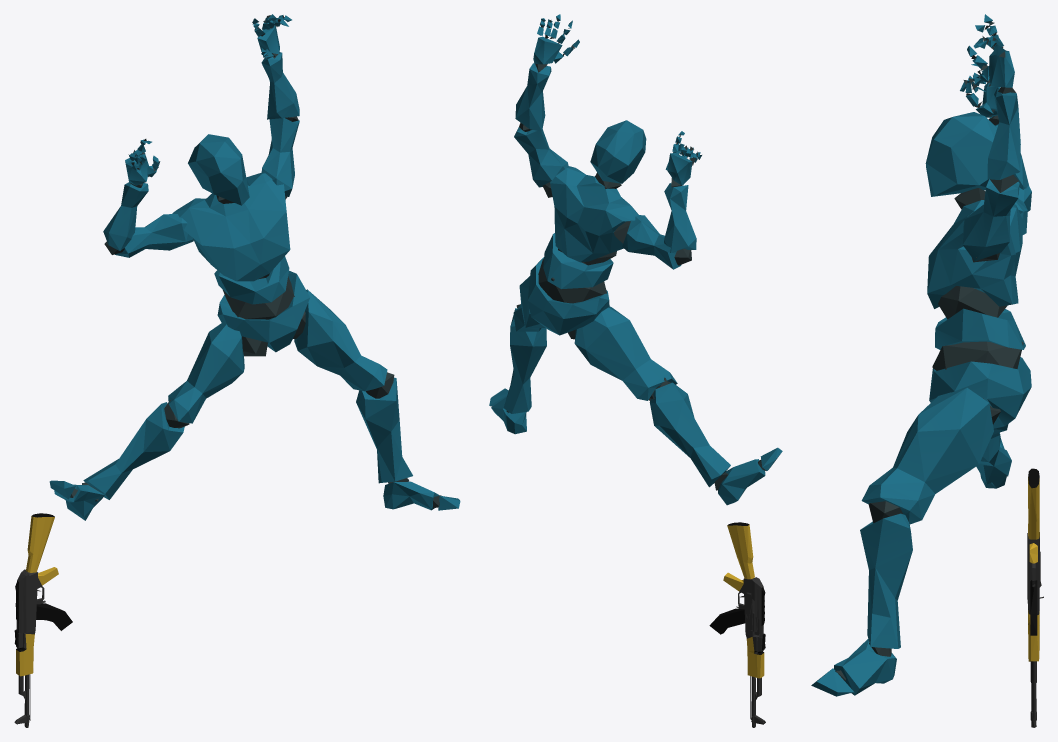
File: EnemyDying_000114.obj
3 views of the same model, side by side, from view 1: azimuth 30°, elevation 25°; view 2: azimuth 150°, elevation 25°; view 3: azimuth 270°, elevation 25° (orthographic). The views are drawn at different scales.
Visible parts, largest first — view 1: Alpha_Surface, AK-47_Cube, Alpha_Joints; view 2: Alpha_Surface, AK-47_Cube, Alpha_Joints; view 3: Alpha_Surface, Alpha_Joints, AK-47_Cube.
Boxes of the visible parts, x1=… form: Alpha_Surface: x1=49, y1=14, x2=460, y2=520; AK-47_Cube: x1=14, y1=513, x2=72, y2=727; Alpha_Joints: x1=70, y1=15, x2=441, y2=507; Alpha_Surface: x1=489, y1=14, x2=782, y2=505; AK-47_Cube: x1=709, y1=522, x2=765, y2=727; Alpha_Joints: x1=506, y1=19, x2=766, y2=490; Alpha_Surface: x1=811, y1=14, x2=1031, y2=696; Alpha_Joints: x1=835, y1=22, x2=1023, y2=680; AK-47_Cube: x1=1027, y1=468, x2=1043, y2=727.
Bounding box in the file's own units: 305 × 537 × 135.
